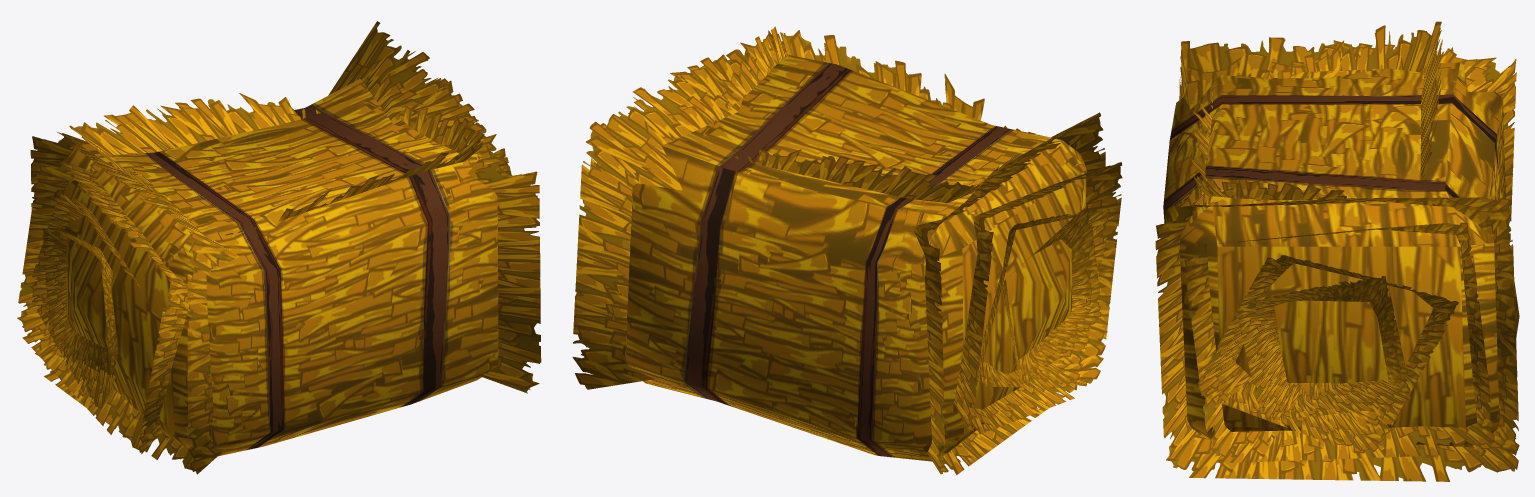
The model's file is SM_PROP_hay_03.FBX.
The picture shows the model from 3 angles, left to right: view 1: azimuth 30°, elevation 25°; view 2: azimuth 150°, elevation 25°; view 3: azimuth 270°, elevation 25°; orthographic projection. The views are drawn at different scales.
Parts seen in each view (by area): view 1: SM_PROP_hay_03; view 2: SM_PROP_hay_03; view 3: SM_PROP_hay_03.
Boxes of the visible parts, x1=… form: SM_PROP_hay_03: x1=17, y1=21, x2=541, y2=474; SM_PROP_hay_03: x1=572, y1=26, x2=1122, y2=474; SM_PROP_hay_03: x1=1155, y1=21, x2=1519, y2=481.
Bounding box in the file's own units: 86.51 × 63.46 × 57.49.
